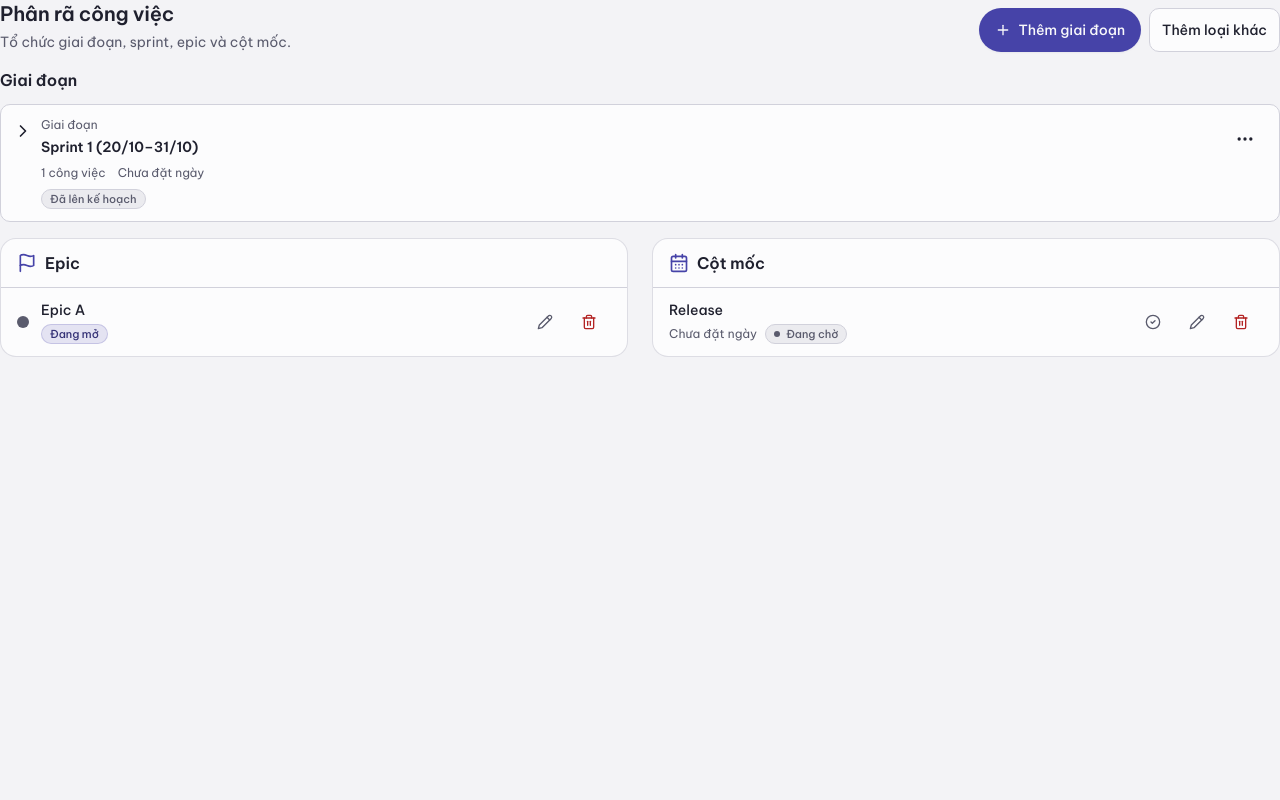
it: WBS localization (vi) › labels the addPhase editor
Click the button "Thêm giai đoạn" at (1060, 30), box [978,8,1141,52]
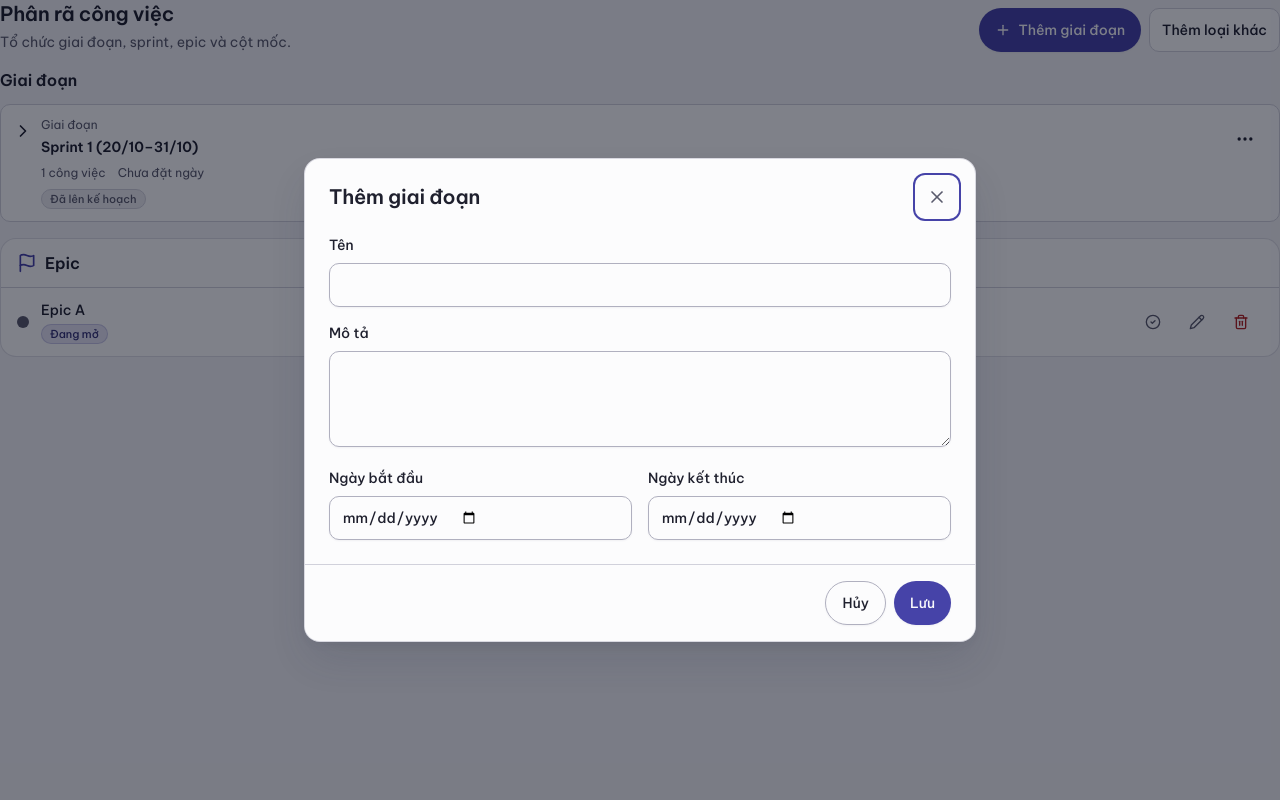
Expected: the field labelled "Tên" is shown, [329,263,951,307]
Expected: the text box labelled "Mô tả" is shown, [329,351,951,447]
Expected: the date field labelled "Ngày bắt đầu" is shown, [329,496,632,540]
Click the button "Hủy" at (856, 603), box [825,581,886,625]
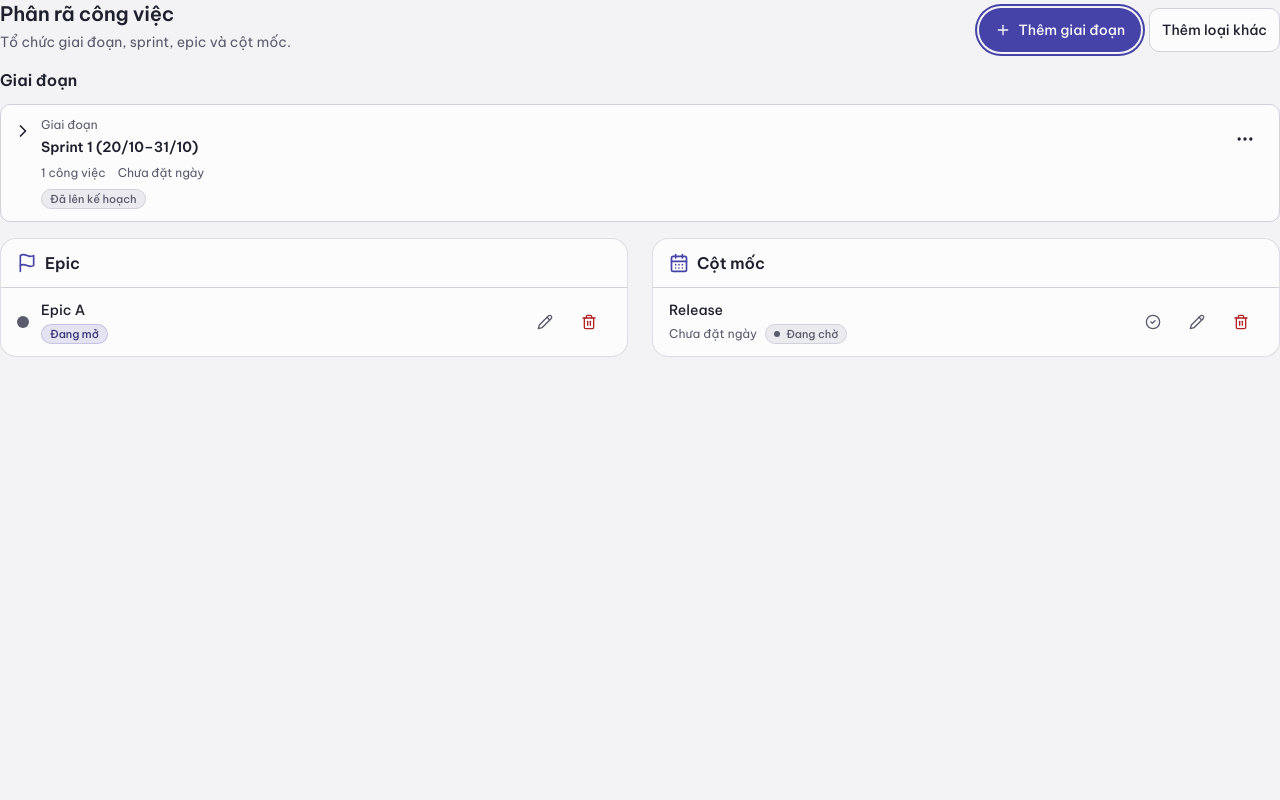
Expected: the dialog is gone
